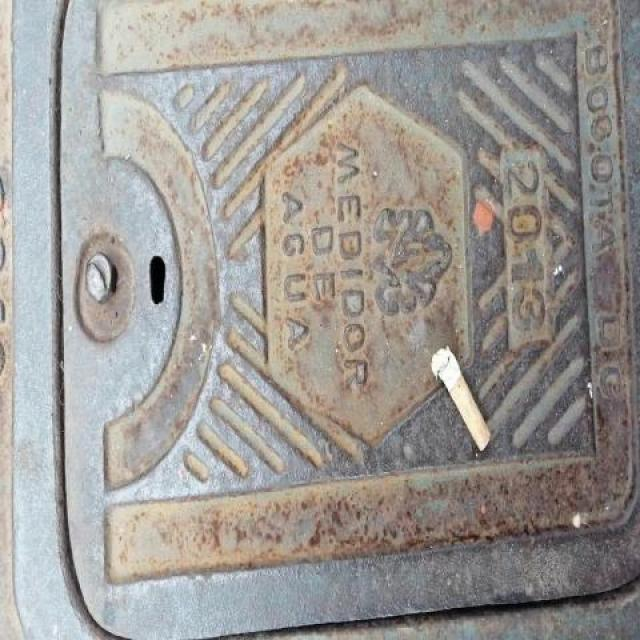non-organic waste: (428, 343, 496, 456)
